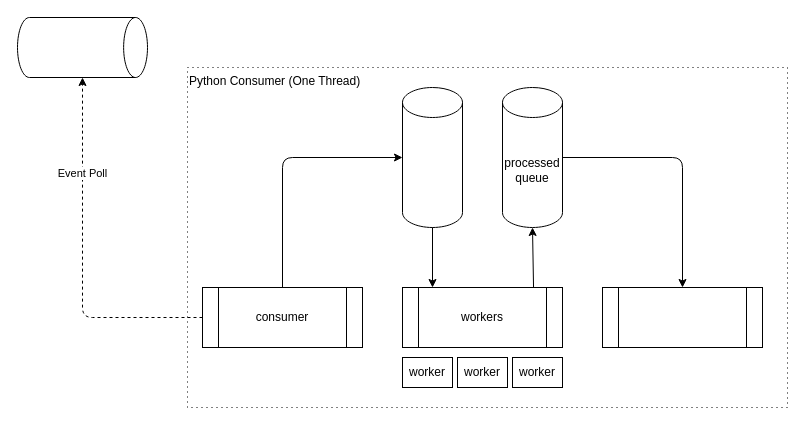
This 805x425 diagram has some shape labels left out. The box of each missing label's shape, as (x1, y1, x2, y2) in pixels:
commit: (602, 286, 762, 348)
kafka Topic: (16, 16, 148, 78)
queue: (402, 86, 462, 228)
